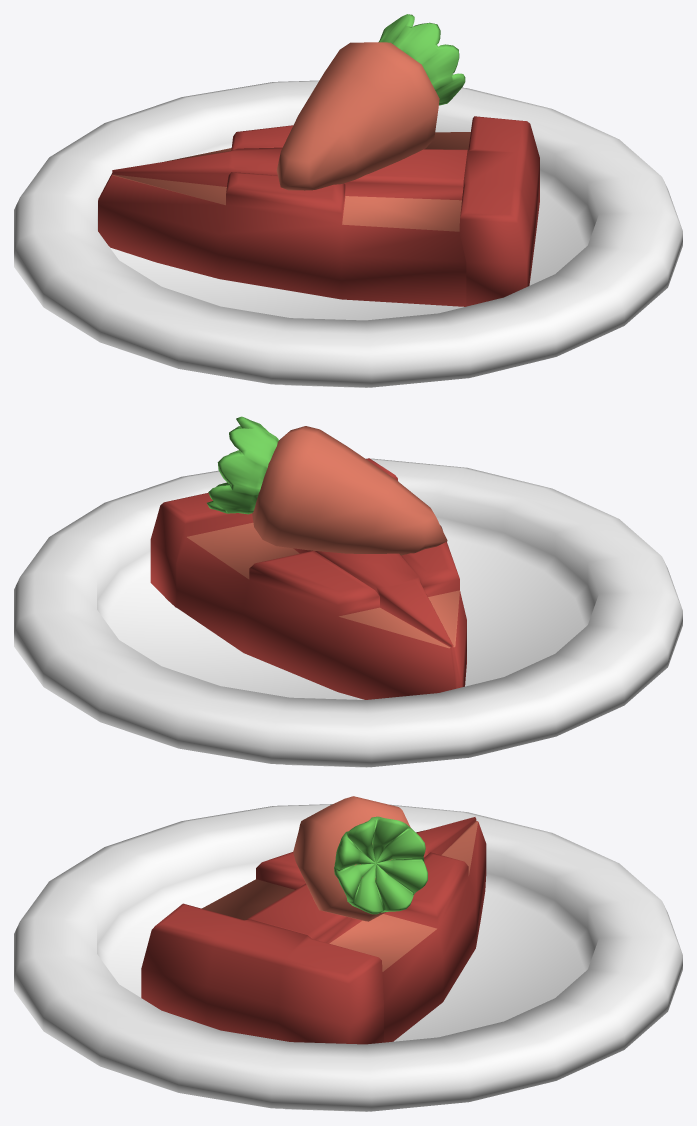
File: Carrot_Pie_w_Plate_Food.glb
3 views of the same model, one above another, from view 1: azimuth 30°, elevation 25°; view 2: azimuth 150°, elevation 25°; view 3: azimuth 270°, elevation 25° (orthographic).
Visible parts, largest first — view 1: Carrot_Pie_w_Plate_Food; view 2: Carrot_Pie_w_Plate_Food; view 3: Carrot_Pie_w_Plate_Food.
Boxes of the visible parts, x1=… form: Carrot_Pie_w_Plate_Food: x1=14, y1=14, x2=682, y2=387; Carrot_Pie_w_Plate_Food: x1=14, y1=416, x2=682, y2=767; Carrot_Pie_w_Plate_Food: x1=14, y1=796, x2=682, y2=1111.
Bounding box in the file's own units: 0.1089 × 0.0421 × 0.1086.
1 material, 1 textured.
